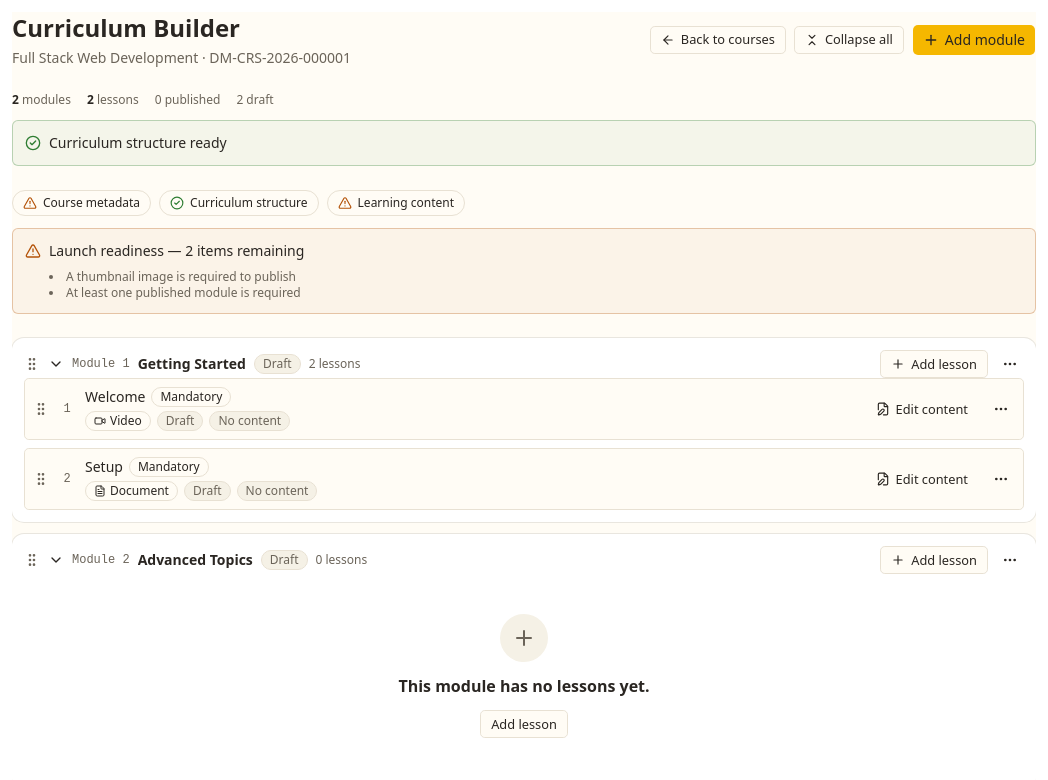
Test: CourseCurriculumPage › duplicates a lesson
The width and height of the screenshot is (1048, 780).
Expected: the text "Welcome" is shown, top-left (85, 387), bottom-right (145, 407)
Click the button named "actions for lesson welcome".
click(1001, 409)  # box top-left (987, 395), bottom-right (1015, 423)
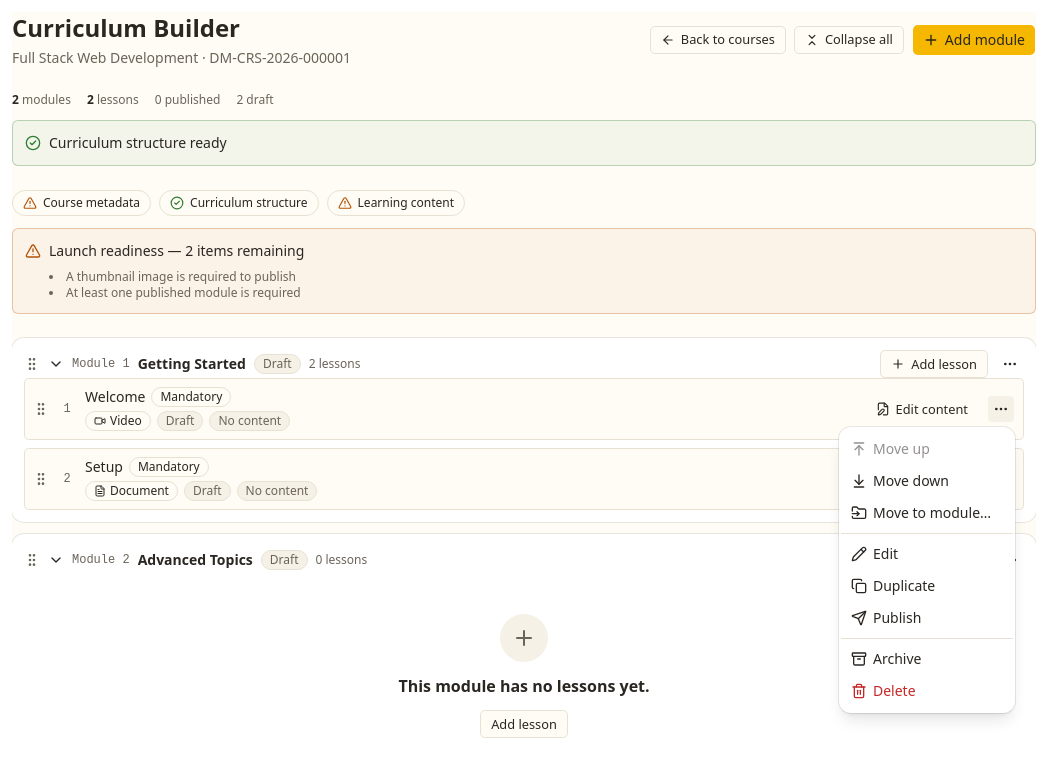
Click the menu item "Duplicate".
click(893, 586)  # box top-left (851, 576), bottom-right (935, 595)
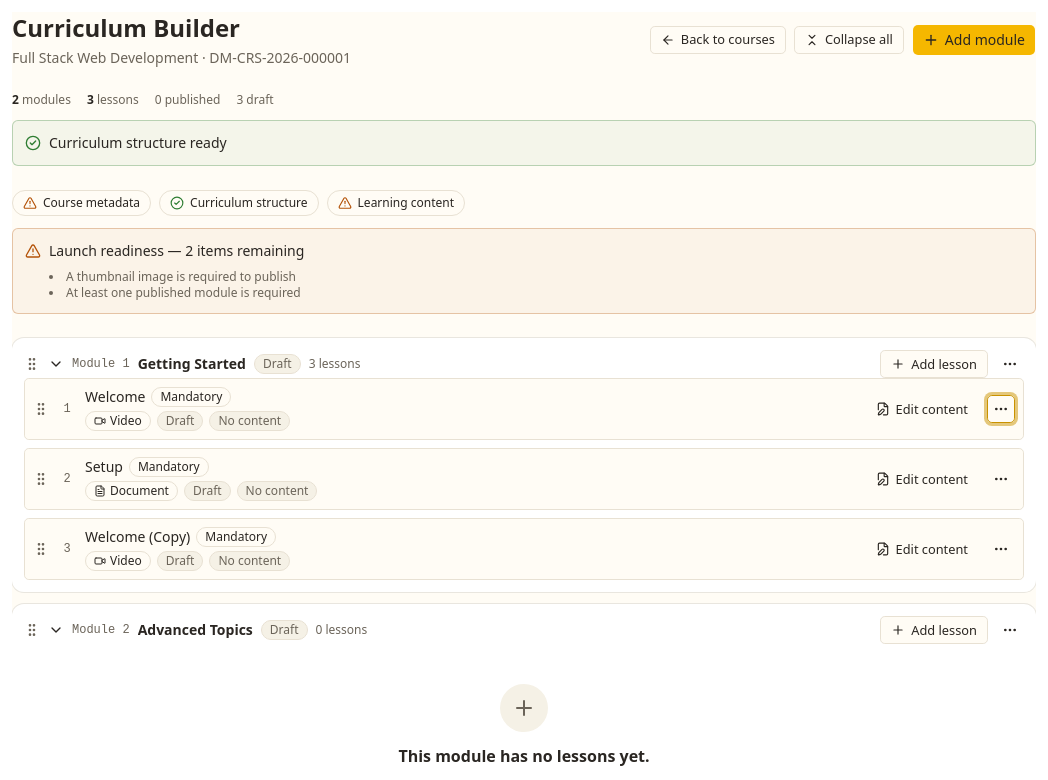
Now the text "Welcome (Copy)" is shown, box top-left (85, 527), bottom-right (190, 547)
